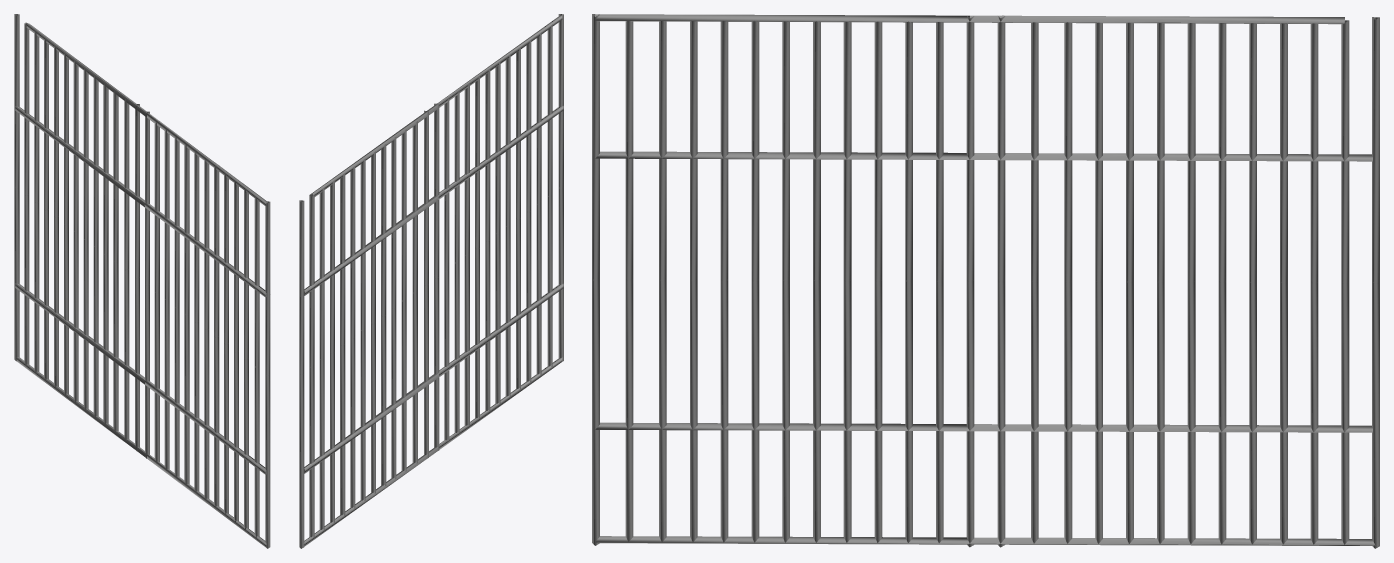
File: SWORDLIGHT20_UPPERGATE.fbx
3 views of the same model, side by side, from view 1: azimuth 30°, elevation 25°; view 2: azimuth 150°, elevation 25°; view 3: azimuth 270°, elevation 25° (orthographic). The views are drawn at different scales.
Visible parts, largest first — view 1: SWORDLIGHT20_UPPERGATE; view 2: SWORDLIGHT20_UPPERGATE; view 3: SWORDLIGHT20_UPPERGATE.
Part boxes in pixels (box(x1,y1,x2,y2)): SWORDLIGHT20_UPPERGATE: box(14, 14, 270, 548); SWORDLIGHT20_UPPERGATE: box(299, 14, 563, 548); SWORDLIGHT20_UPPERGATE: box(592, 14, 1379, 548).
Bounding box in the file's own units: 1750 × 65714 × 88680.
1 material, 1 textured.
